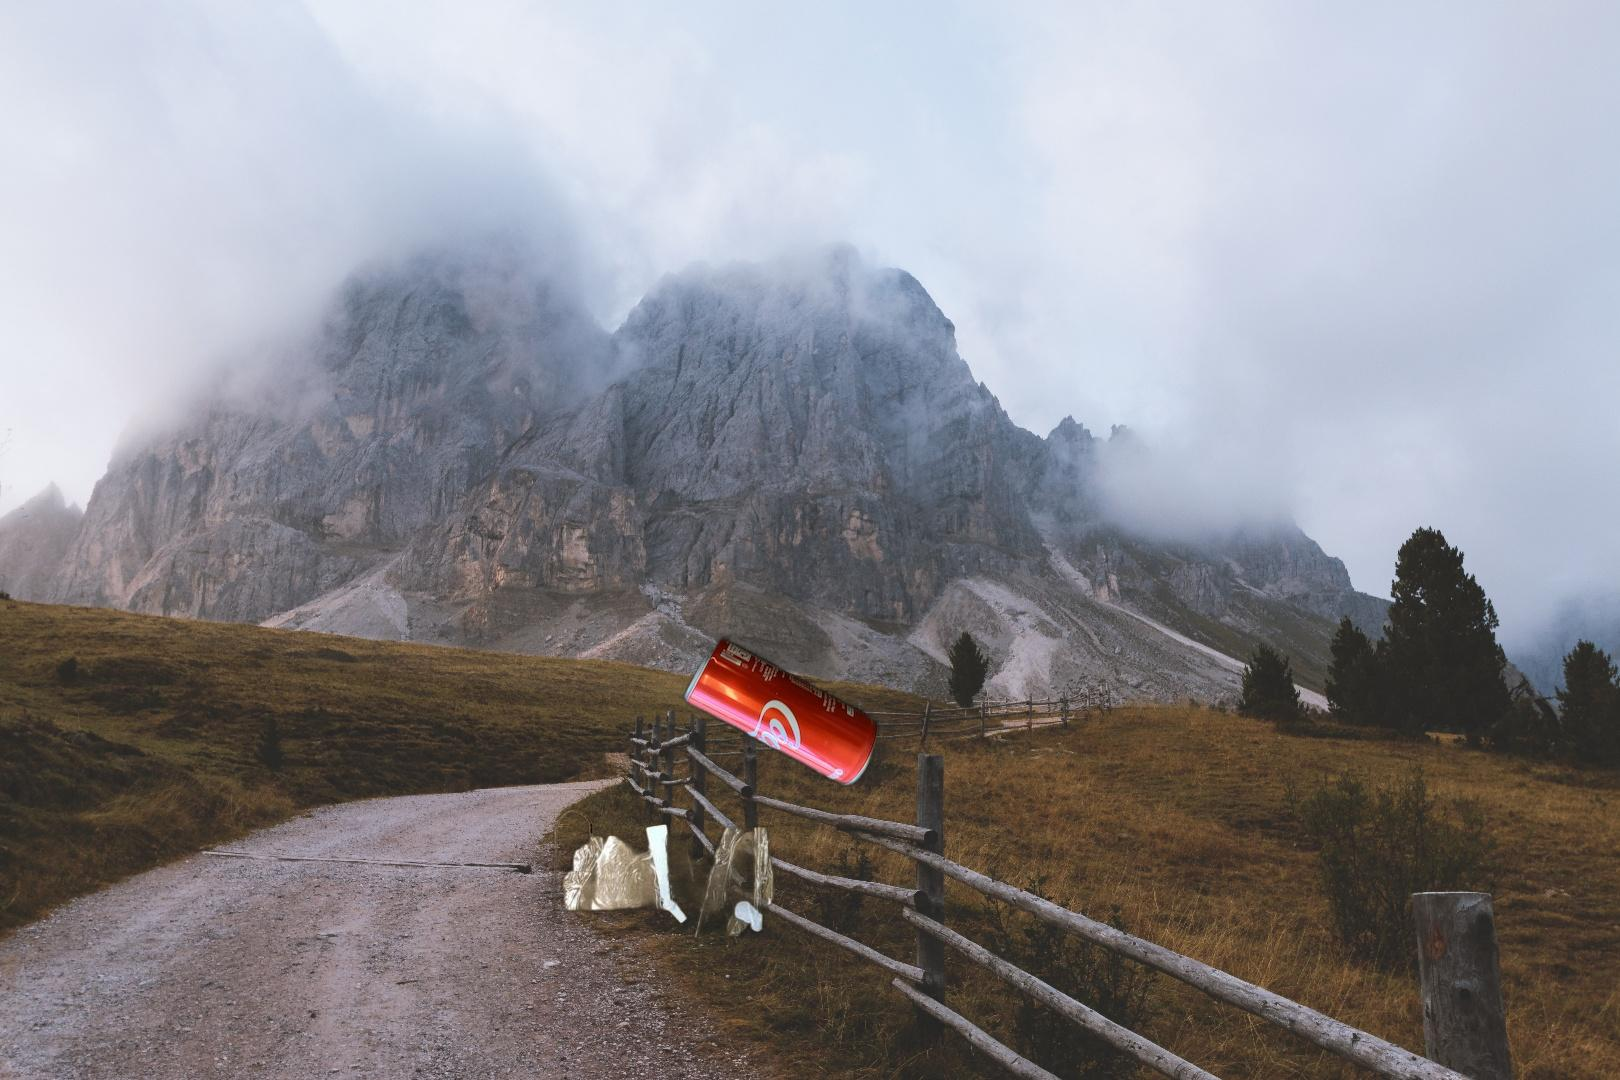metal-cans: (679, 630, 884, 793)
trashbox-cardboard: (547, 806, 786, 1080)
